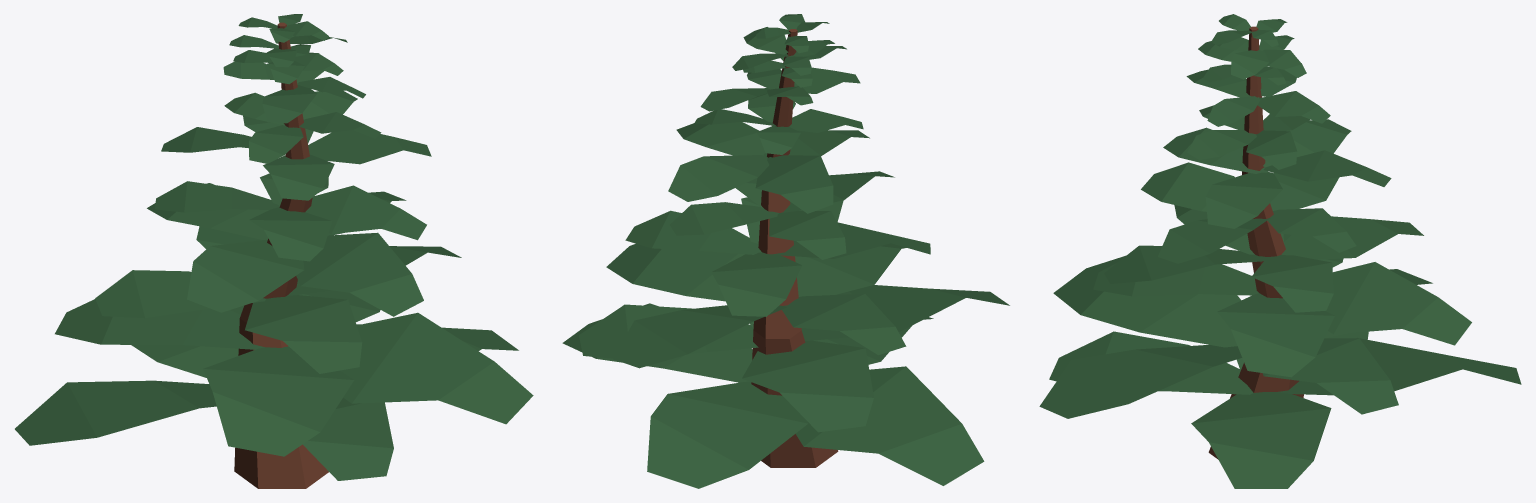
File: TreeC2.fbx
The picture shows the model from 3 angles, left to right: view 1: azimuth 30°, elevation 25°; view 2: azimuth 150°, elevation 25°; view 3: azimuth 270°, elevation 25°; orthographic projection. The views are drawn at different scales.
Visible parts, largest first — view 1: Plane.006, Plane.005, Plane.002, Plane.014, Plane.008, Plane.004, Plane.013, Cylinder.006, Plane.003, Plane.011, Plane.018, Plane.017 (+18 smaller); view 2: Plane.001, Plane.002, Plane.004, Cylinder.006, Plane.010, Plane.009, Plane.011, Plane.012, Plane.005, Plane.008, Plane.022, Plane.007 (+21 smaller); view 3: Plane, Plane.006, Plane.010, Plane.005, Plane.009, Plane.007, Plane.001, Cylinder.006, Plane.003, Plane.008, Plane.015, Plane.020 (+18 smaller).
Part boxes in pixels (x1,y1,x2,y2): Plane.006: (340,312,533,424); Plane.005: (203,346,354,456); Plane.002: (15,380,216,445); Plane.014: (296,232,423,316); Plane.008: (245,295,362,373); Plane.004: (55,299,264,349); Plane.013: (187,239,304,312); Cylinder.006: (234,22,328,488); Plane.003: (303,397,393,480); Plane.011: (95,270,265,318); Plane.018: (305,185,426,240); Plane.017: (249,207,332,261); Plane.001: (647,381,808,488); Plane.002: (795,366,984,485); Plane.004: (742,340,873,432); Cylinder.006: (751,29,838,467); Plane.010: (613,305,786,368); Plane.009: (606,243,744,301); Plane.011: (782,293,906,355); Plane.012: (711,252,802,316); Plane.005: (801,285,1009,340); Plane.008: (795,243,906,296); Plane.022: (755,155,833,213); Plane.007: (579,304,758,358); Plane: (1191,392,1331,488); Plane.006: (1039,344,1242,418); Plane.010: (1326,262,1471,345); Plane.005: (1053,255,1241,347); Plane.009: (1217,293,1334,377); Plane.007: (1262,338,1398,414); Plane.001: (1276,337,1521,395); Cylinder.006: (1208,26,1303,459); Plane.003: (1049,331,1253,394); Plane.008: (1093,263,1258,296); Plane.015: (1251,255,1333,312); Plane.020: (1205,172,1282,228).
Size of the model in its own units: 2.93 by 2.79 by 2.84.
